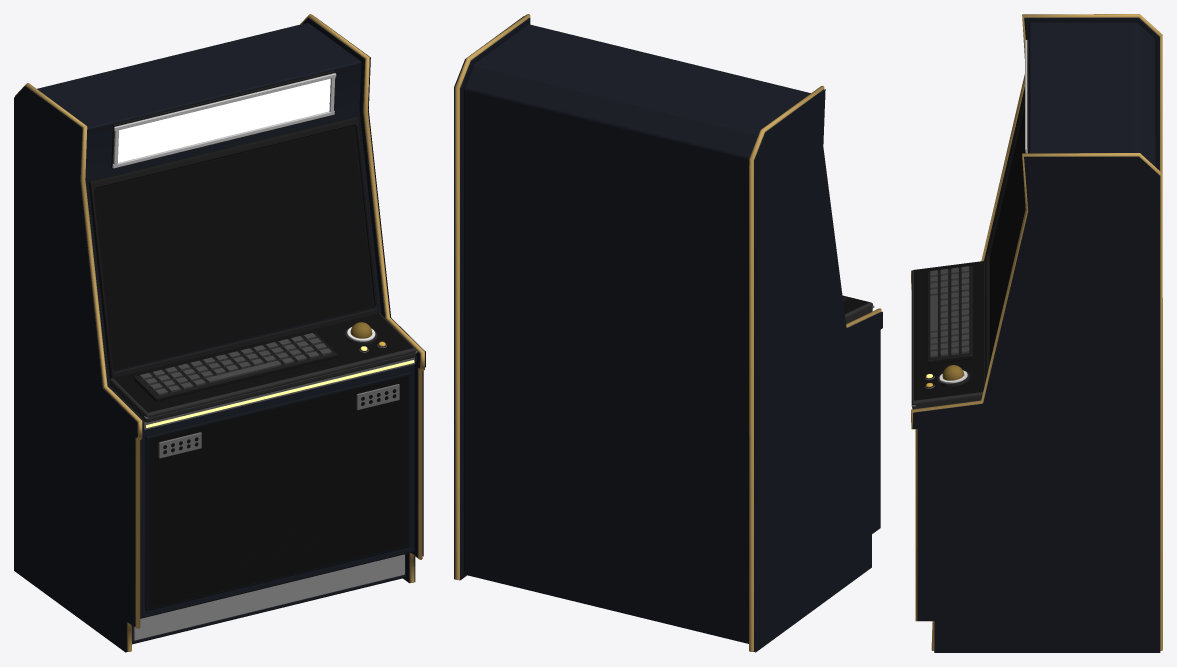
The model's file is mach-riftback.glb.
3 renders of one model, left to right at view 1: azimuth 30°, elevation 25°; view 2: azimuth 150°, elevation 25°; view 3: azimuth 270°, elevation 25°, orthographic. The views are drawn at different scales.
Parts seen in each view (by area): view 1: screen, side_art_l, front_art, glass, body, controls, metal, marquee, trim, deck_art, speaker, side_art_r; view 2: body, side_art_l, trim; view 3: side_art_r, body, controls, trim, deck_art, screen, glass, metal, trackball.
Boxes of the visible parts, <box> form: screen: <box>94,126,373,370</box>; side_art_l: <box>14,86,136,652</box>; front_art: <box>149,376,408,608</box>; glass: <box>95,126,374,370</box>; body: <box>25,17,425,651</box>; controls: <box>88,70,416,569</box>; metal: <box>112,73,417,640</box>; marquee: <box>118,78,330,162</box>; trim: <box>15,14,424,651</box>; deck_art: <box>113,313,413,412</box>; speaker: <box>158,384,399,458</box>; side_art_r: <box>316,17,425,581</box>; body: <box>459,17,881,651</box>; side_art_l: <box>755,89,882,652</box>; trim: <box>455,14,881,651</box>; side_art_r: <box>913,157,1160,652</box>; body: <box>914,17,1159,412</box>; controls: <box>911,38,1028,409</box>; trim: <box>911,14,1162,650</box>; deck_art: <box>914,261,984,400</box>; screen: <box>989,107,1025,363</box>; glass: <box>987,97,1024,366</box>; metal: <box>911,40,1027,407</box>; trackball: <box>937,365,969,386</box>.
Bounding box in the file's own units: 0.953 × 1.56 × 0.7132.
